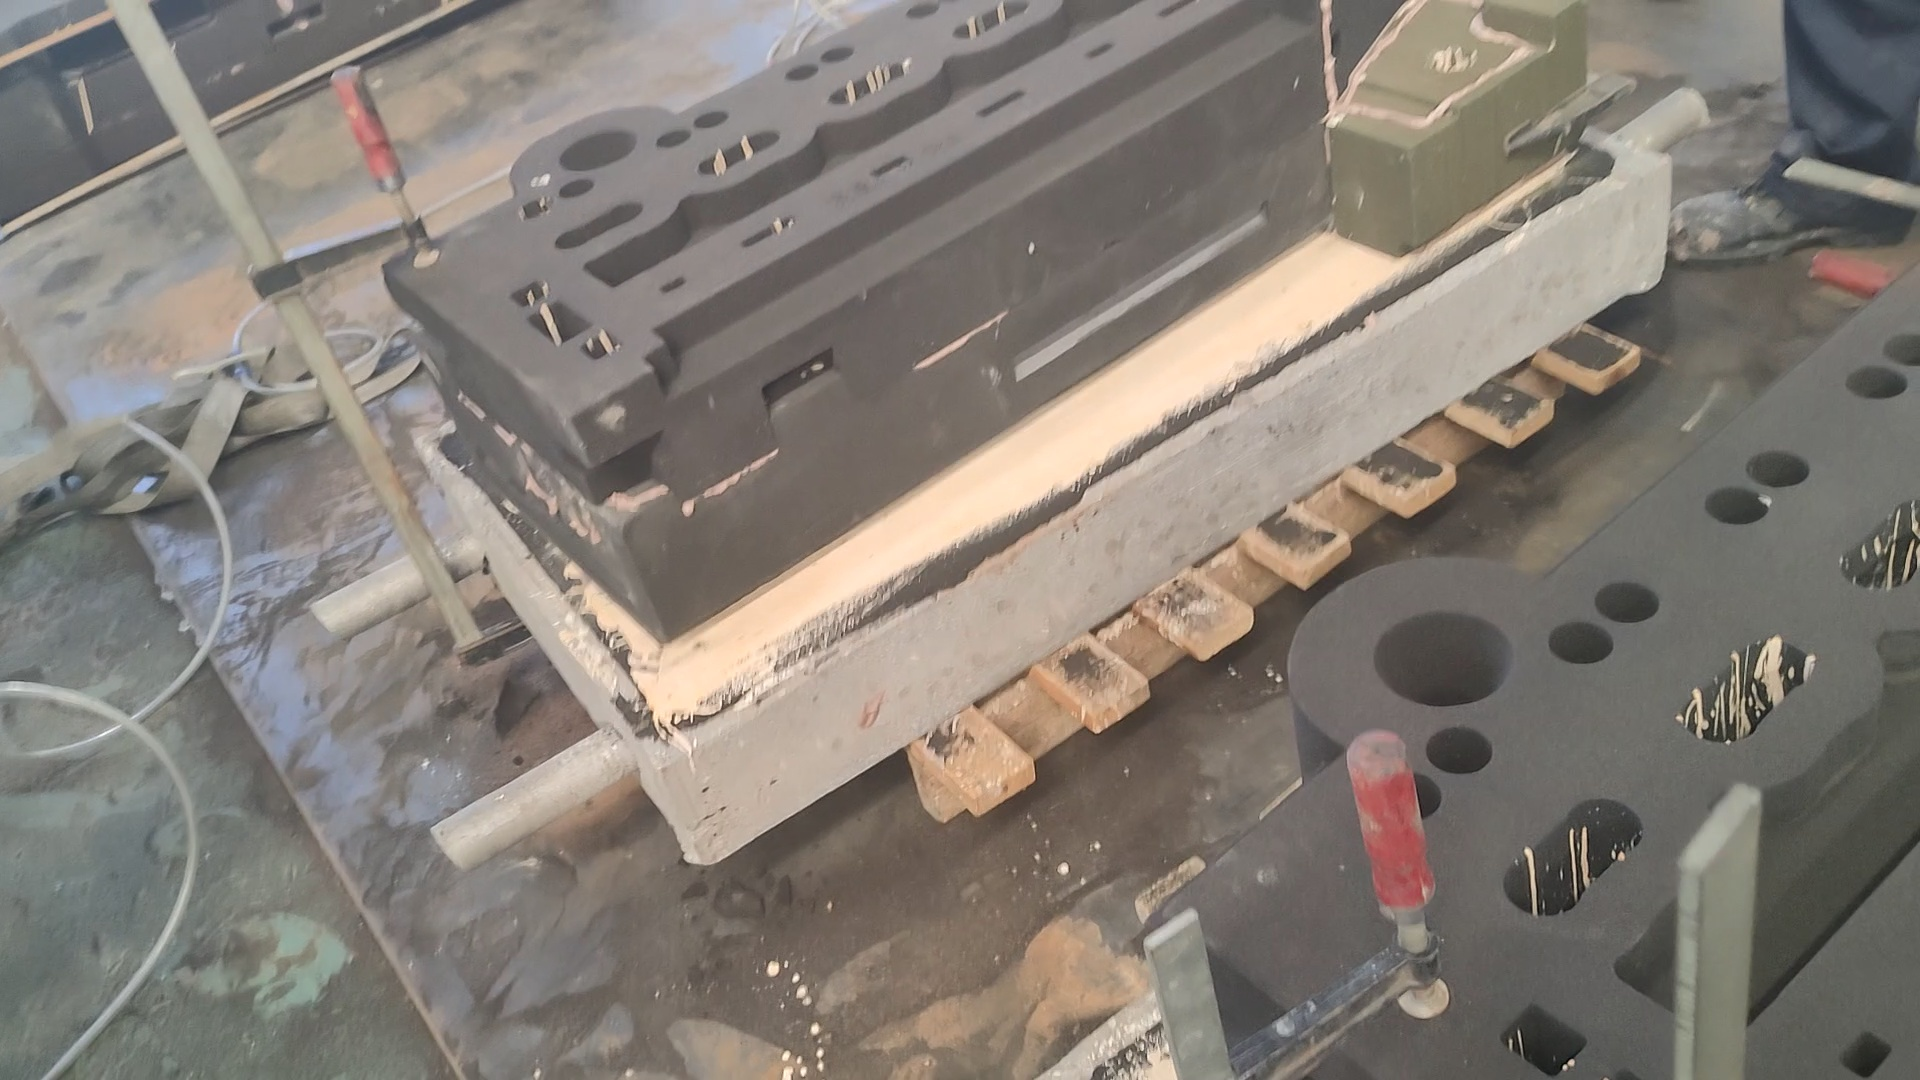pouring hole: (1371, 608, 1516, 708), (554, 128, 637, 171)
